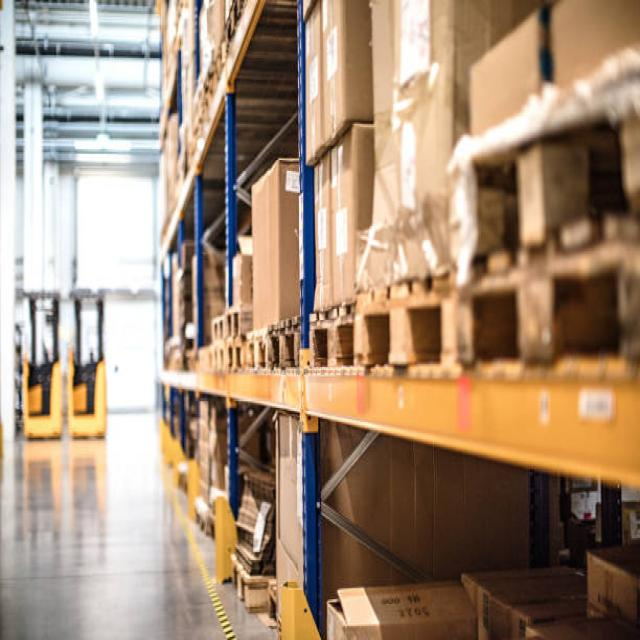Wooden-Pallets: (457, 221, 640, 372), (347, 262, 465, 378), (304, 309, 357, 385)
